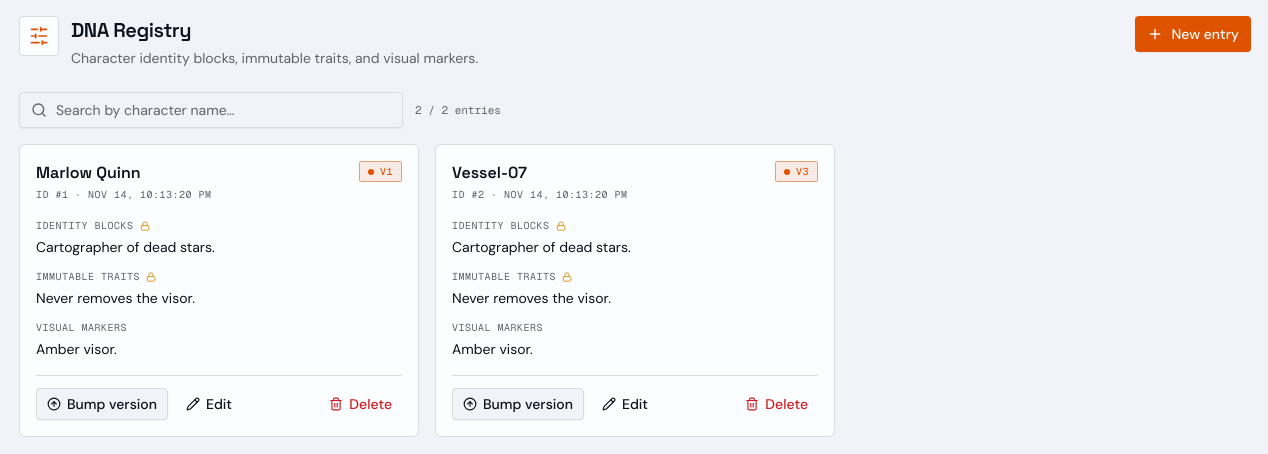
Test: DnaPage › filters records by character name
Check: the heading "Marlow Quinn" is shown, box [36,162,141,183]
Type "vessel" into the field with test id "dna.search_input" at x=211, y=110, box [19,92,403,128]
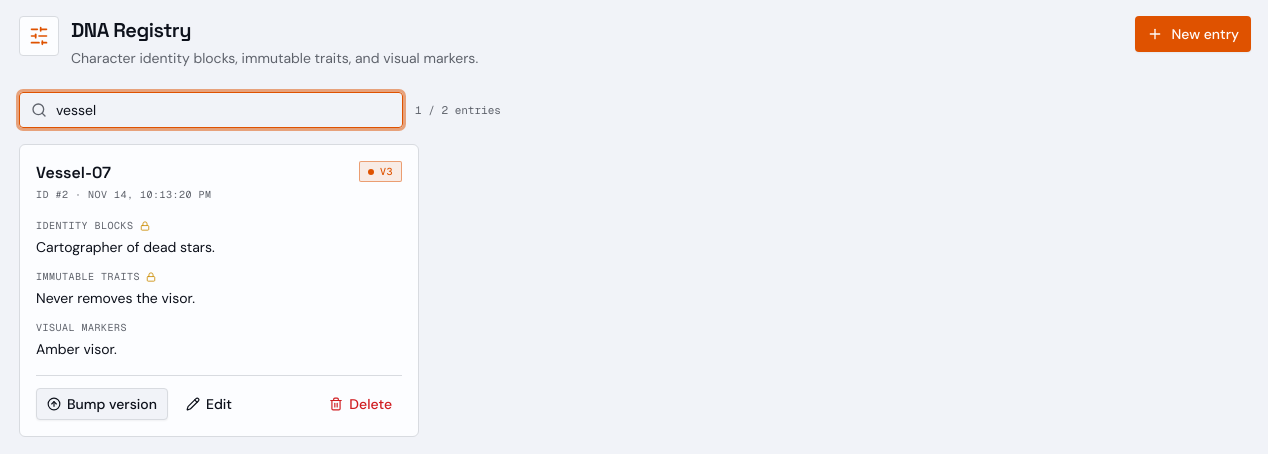
Check: the heading "Vessel-07" is shown, box [36,162,111,183]
Check: the heading "Marlow Quinn" is gone
